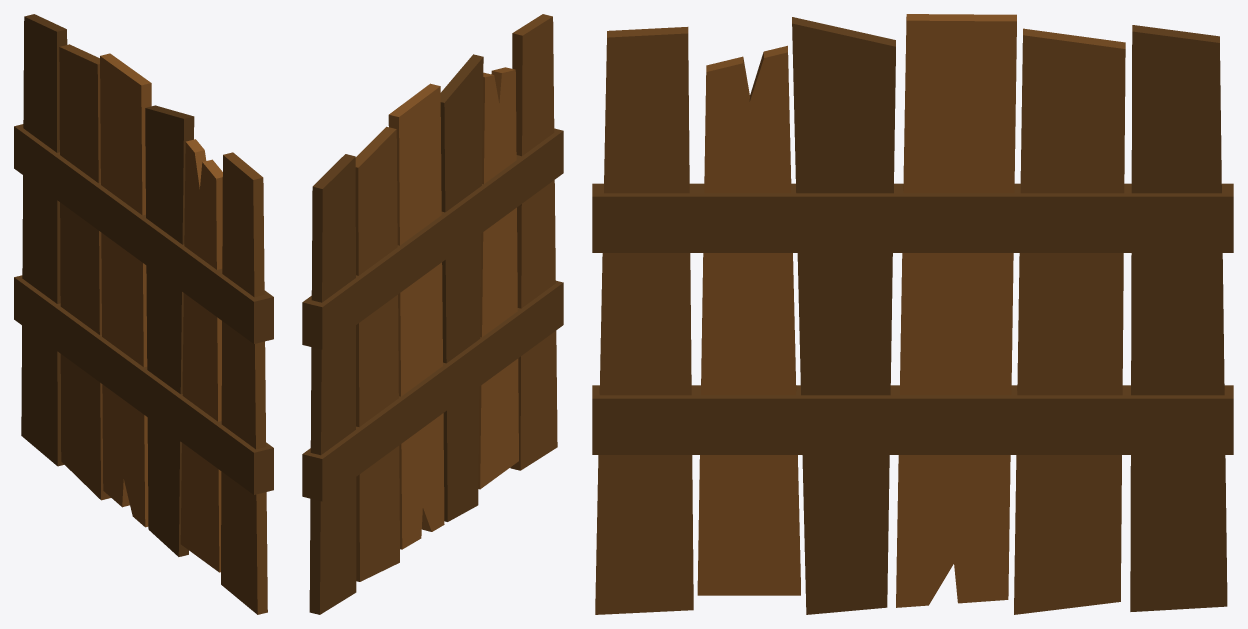
The model's file is Wooden_Fence.fbx.
3 renders of one model, left to right at view 1: azimuth 30°, elevation 25°; view 2: azimuth 150°, elevation 25°; view 3: azimuth 270°, elevation 25°, orthographic. The views are drawn at different scales.
Visible parts, largest first — view 1: Wooden_Fence; view 2: Wooden_Fence; view 3: Wooden_Fence.
Part boxes in pixels (<box>): Wooden_Fence: <box>14,14,273,614</box>; Wooden_Fence: <box>302,14,563,614</box>; Wooden_Fence: <box>592,14,1233,614</box>.
Bounding box in the file's own units: 9.62 × 204 × 200.
